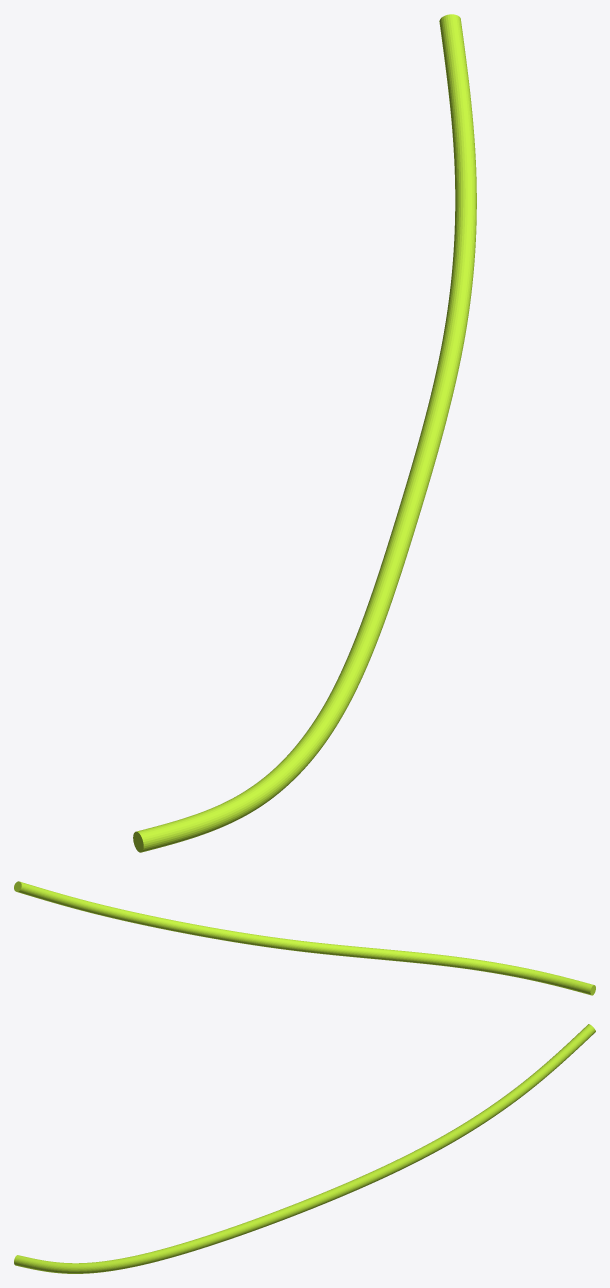
File: faces32 - linechin.glb
The picture shows the model from 3 angles, top to bottom: view 1: azimuth 30°, elevation 25°; view 2: azimuth 150°, elevation 25°; view 3: azimuth 330°, elevation 25°; orthographic projection. The views are drawn at different scales.
Visible parts, largest first — view 1: Tube; view 2: Tube; view 3: Tube.
Boxes of the visible parts, box(x1,y1,x2,y2) form: Tube: box(133, 14, 476, 852); Tube: box(14, 881, 595, 995); Tube: box(14, 1024, 595, 1273).
Bounding box in the file's own units: 0.4348 × 0.1989 × 0.4356.
